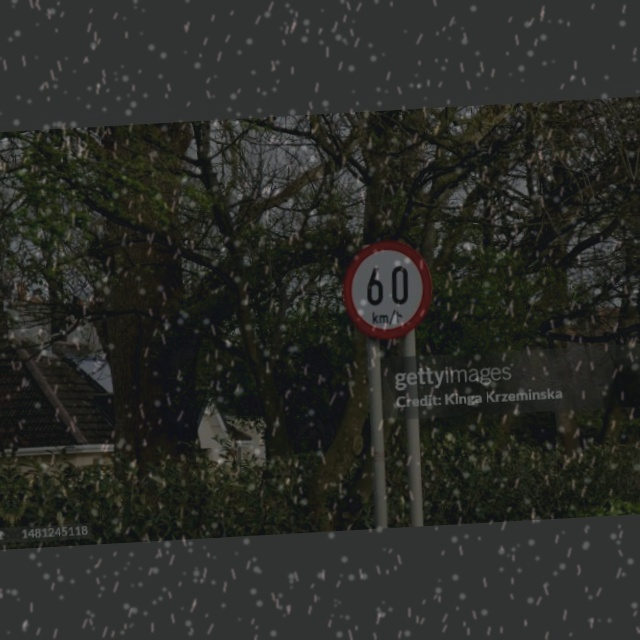Speed_Limit_60: (336, 237, 433, 346)
